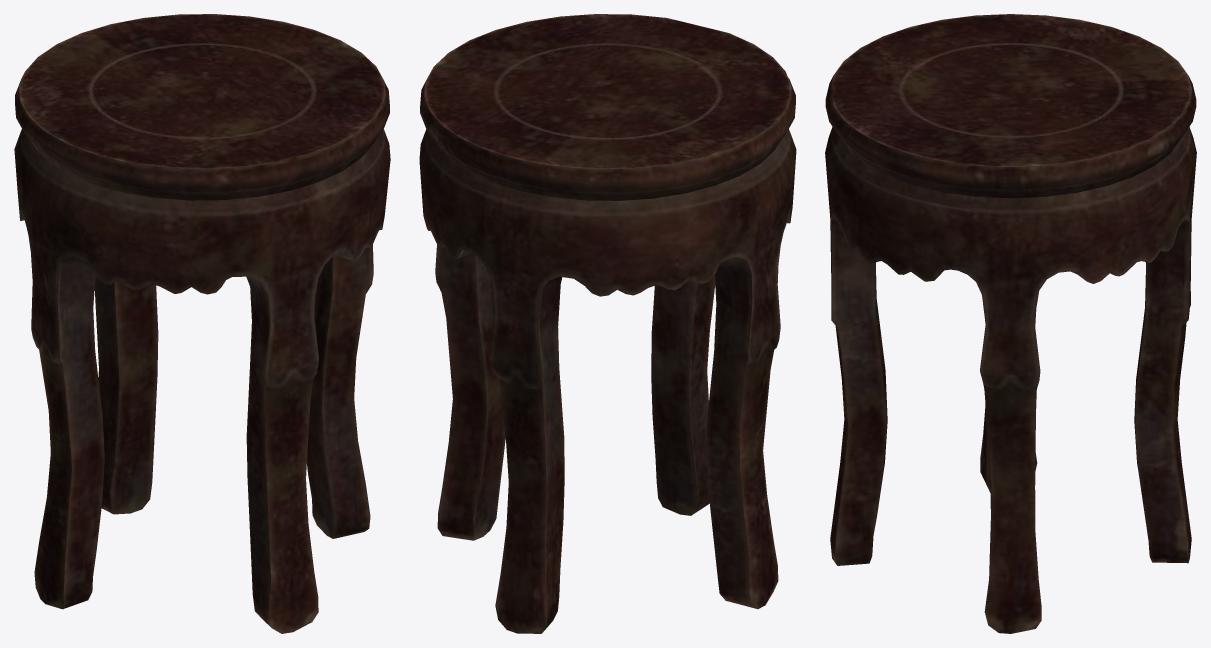
The model's file is side_table.glb.
The picture shows the model from 3 angles, left to right: view 1: azimuth 30°, elevation 25°; view 2: azimuth 150°, elevation 25°; view 3: azimuth 270°, elevation 25°; orthographic projection.
Visible parts, largest first — view 1: WoodenTable_02; view 2: WoodenTable_02; view 3: WoodenTable_02.
Boxes of the visible parts, x1,y1,x2,y2 form: WoodenTable_02: [14, 14, 390, 633]; WoodenTable_02: [419, 14, 796, 633]; WoodenTable_02: [825, 14, 1196, 633].
Bounding box in the file's own units: 0.3007 × 0.4177 × 0.3007.
Materials: 1 (1 with a texture image).
